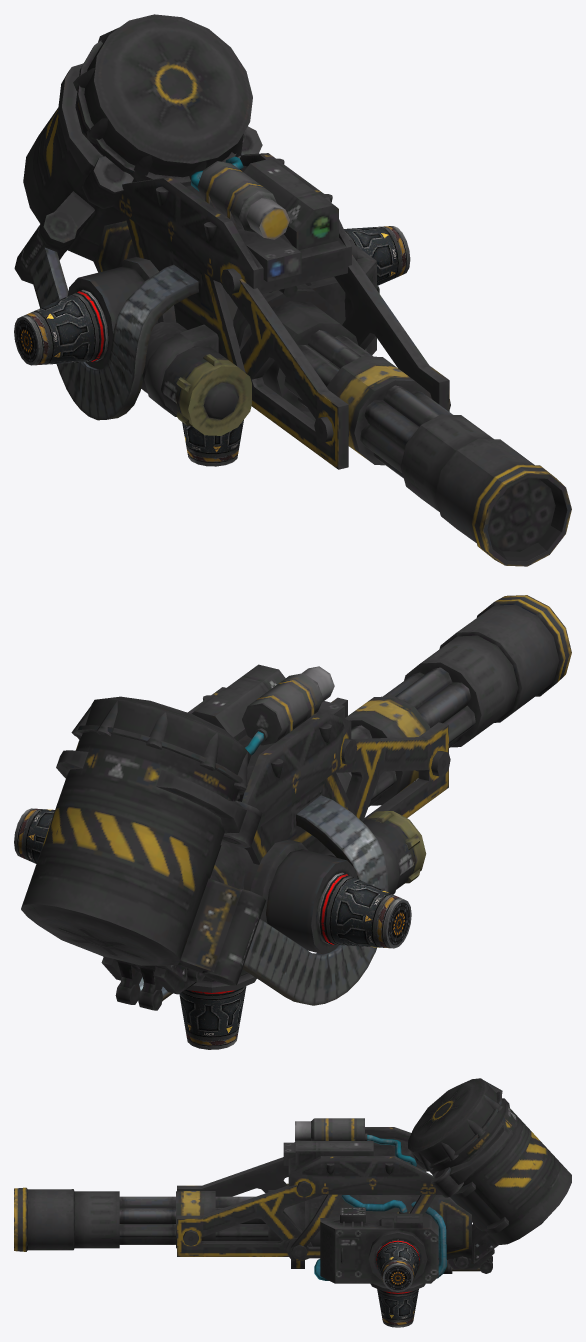
The model's file is [WR] Retaliator.fbx.
The picture shows the model from 3 angles, top to bottom: view 1: azimuth 30°, elevation 25°; view 2: azimuth 150°, elevation 25°; view 3: azimuth 270°, elevation 25°; orthographic projection. The views are drawn at different scales.
Parts seen in each view (by area): view 1: Retaliator, retaliator.barrel, retaliator.magazine, retaliator.magazine grip R, retaliator.magazine holder; view 2: Retaliator, retaliator.magazine, retaliator.barrel, retaliator.magazine grip R, retaliator.magazine grip L; view 3: Retaliator, retaliator.magazine, retaliator.barrel, retaliator.magazine grip L, retaliator.magazine holder.
Part boxes in pixels (x1,y1,x2,y2): Retaliator: (14, 153, 450, 469); retaliator.barrel: (262, 301, 571, 566); retaliator.magazine: (23, 14, 252, 260); retaliator.magazine grip R: (57, 63, 133, 208); retaliator.magazine holder: (79, 205, 126, 245); Retaliator: (14, 664, 450, 1049); retaliator.magazine: (21, 696, 251, 965); retaliator.barrel: (336, 595, 571, 806); retaliator.magazine grip R: (156, 770, 262, 847); retaliator.magazine grip L: (56, 750, 88, 778); Retaliator: (177, 1118, 498, 1327); retaliator.magazine: (408, 1078, 571, 1244); retaliator.barrel: (14, 1187, 304, 1251); retaliator.magazine grip L: (430, 1124, 510, 1197); retaliator.magazine holder: (450, 1181, 508, 1233).
Size of the model in its own units: 558 by 554 by 1189.
